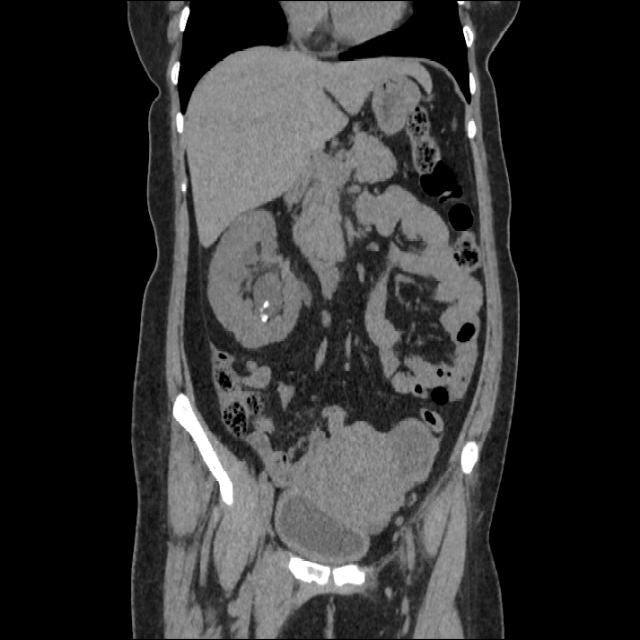kidney: (206, 205, 318, 348)
stone: (260, 314, 267, 324), (262, 301, 269, 308)
